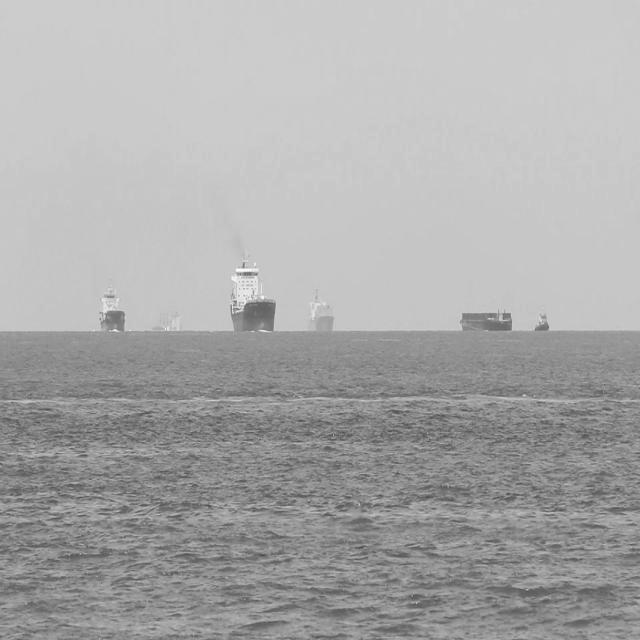ship: (227, 244, 278, 336), (458, 303, 515, 336), (98, 274, 127, 338), (305, 284, 337, 338), (531, 308, 553, 334)
